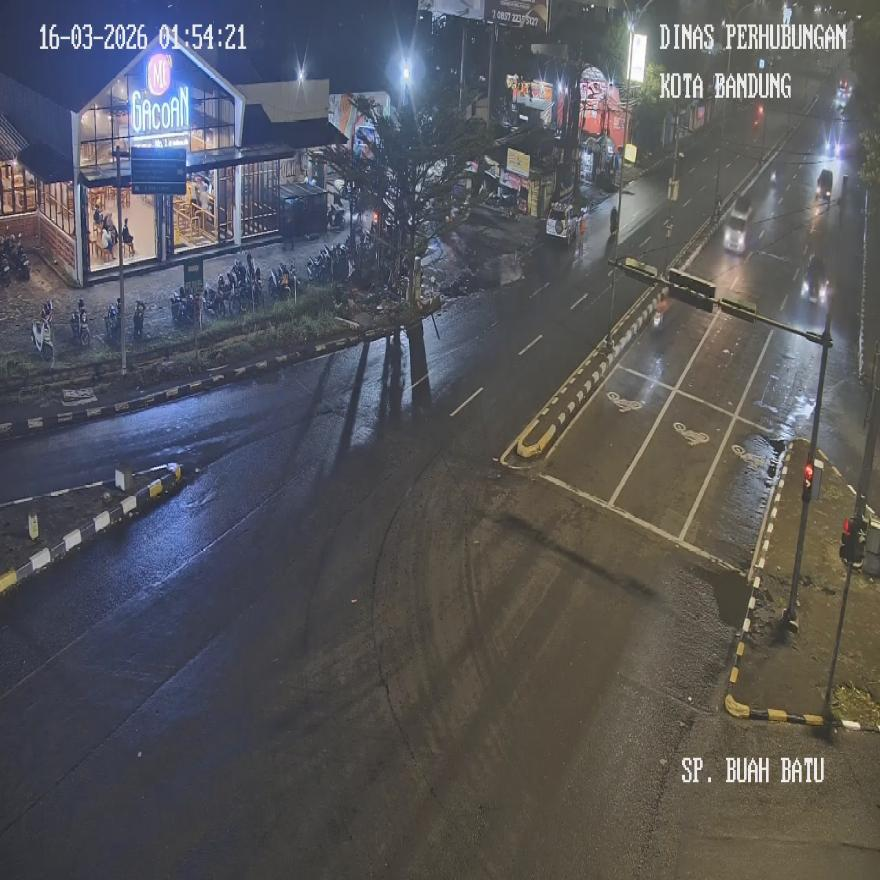Truk: (803, 253, 826, 304), (70, 300, 90, 348), (32, 316, 53, 360), (308, 244, 332, 282), (269, 265, 291, 303), (217, 272, 234, 318), (105, 300, 121, 344), (170, 288, 188, 326), (204, 279, 220, 320), (328, 198, 344, 230), (121, 218, 134, 256), (132, 299, 144, 340), (252, 270, 264, 309), (609, 207, 619, 239)
